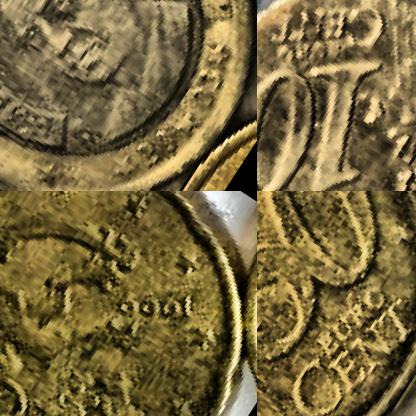coin: (0, 191, 256, 415), (0, 0, 256, 190), (257, 191, 415, 415), (257, 0, 415, 190)
